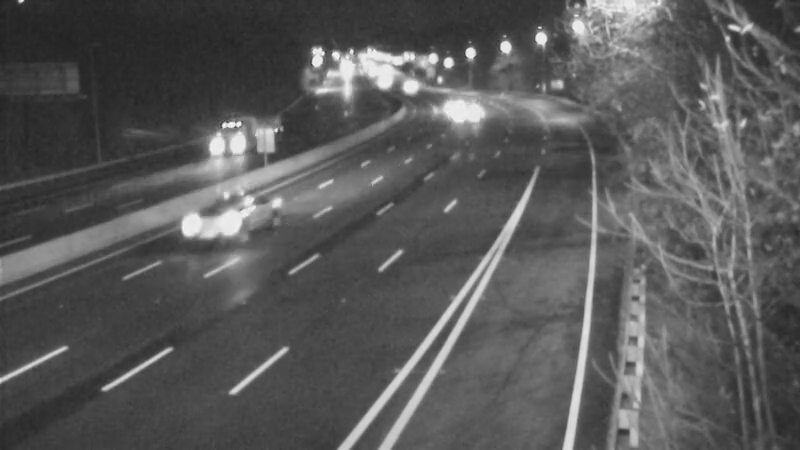vehicle: (178, 186, 258, 266), (377, 57, 427, 107), (427, 82, 477, 132), (447, 88, 497, 138), (220, 111, 270, 161)
